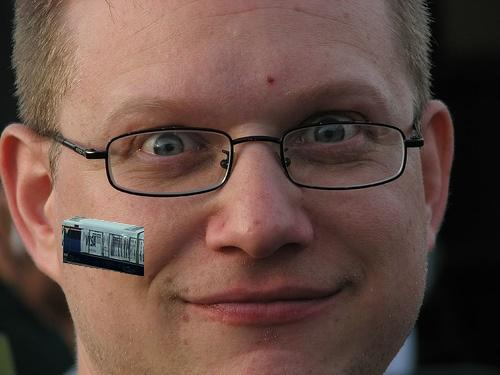tampered: (63, 217, 144, 276)
